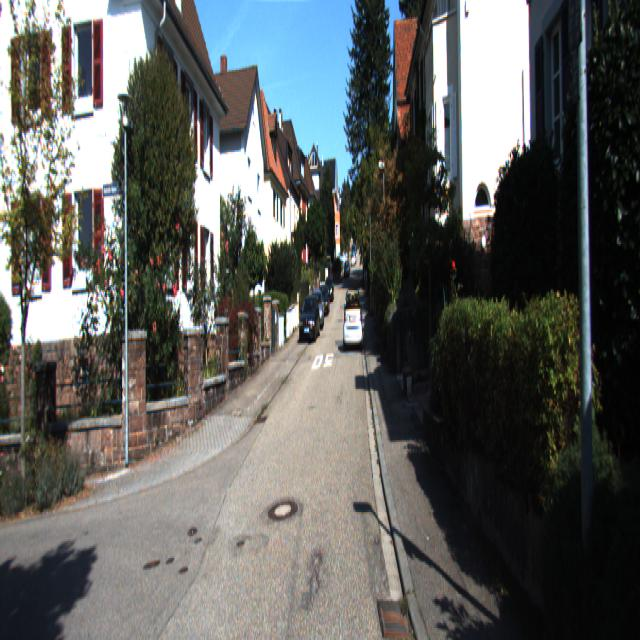Car: (343, 289, 362, 354), (298, 294, 322, 342)
